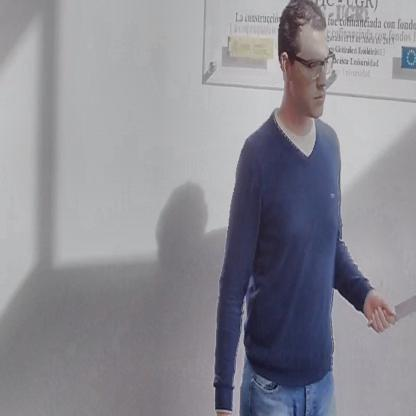knife: (364, 280, 416, 335)
